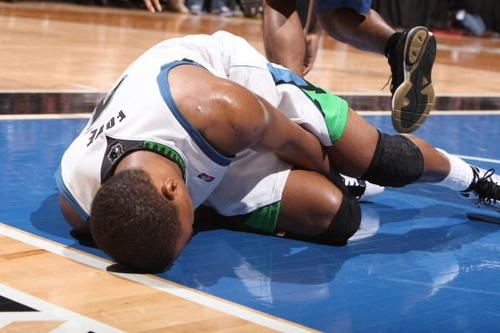falling: (55, 14, 496, 279)
